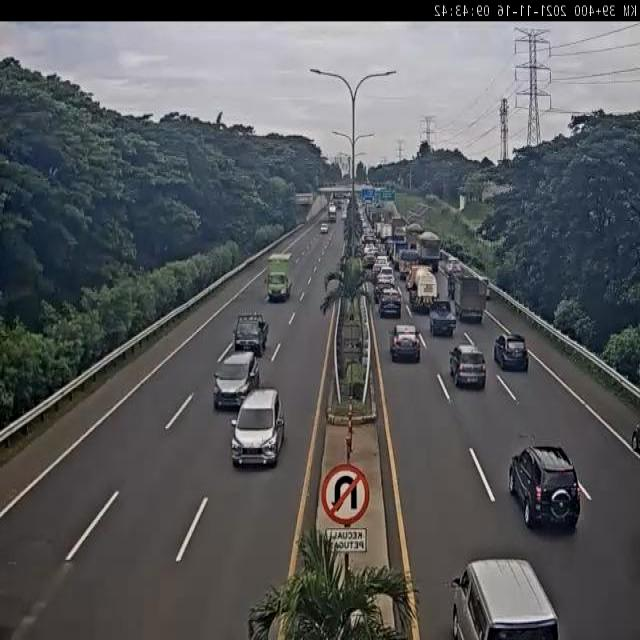Car: (452, 558, 559, 638), (508, 444, 580, 530), (230, 387, 285, 471), (213, 348, 262, 409), (449, 344, 487, 389), (233, 312, 269, 355), (494, 332, 528, 372), (390, 324, 421, 362), (429, 301, 457, 336), (378, 288, 403, 319), (376, 272, 395, 294), (443, 259, 463, 278), (372, 260, 389, 281), (320, 222, 329, 234), (342, 211, 347, 220)
Truck: (448, 272, 484, 323), (406, 265, 439, 311), (264, 252, 292, 302), (417, 231, 440, 273), (328, 204, 337, 221)
